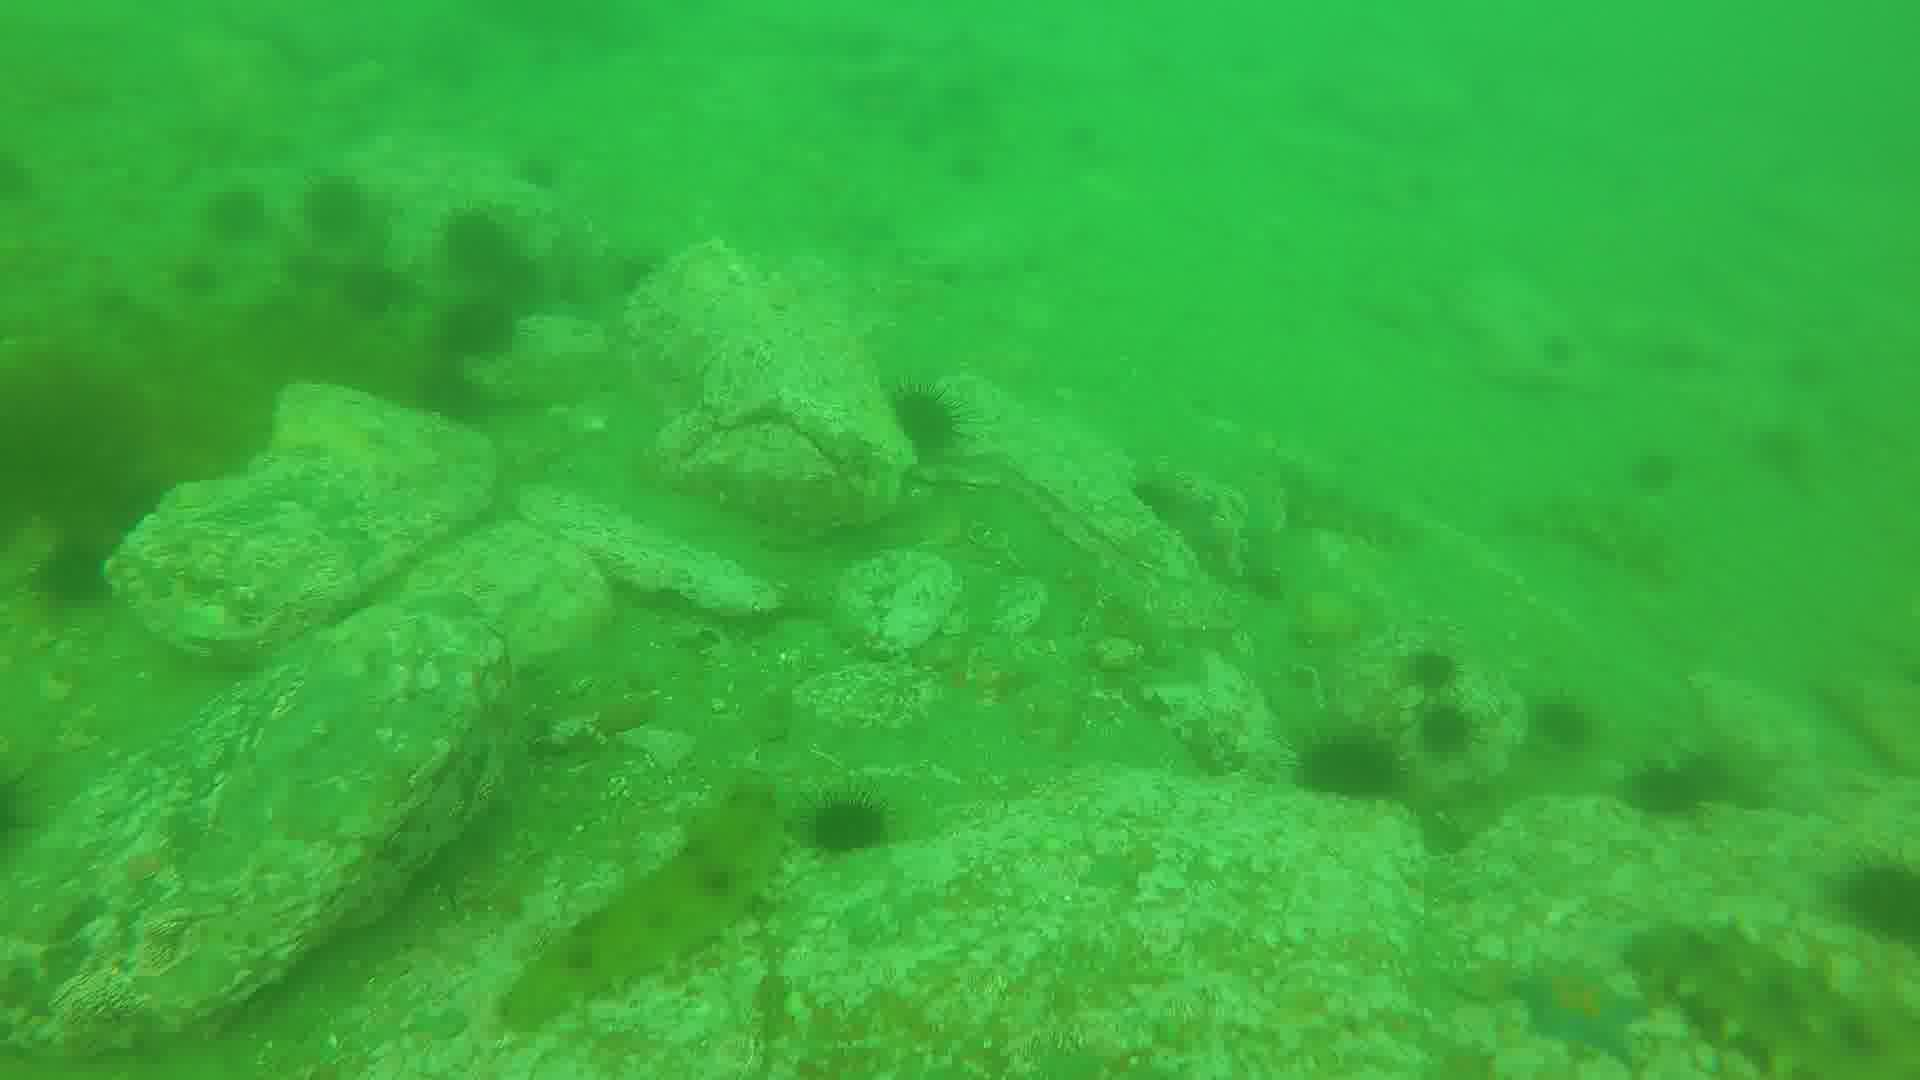echinus: (1292, 738, 1414, 808), (1832, 856, 1920, 951), (884, 386, 971, 459), (348, 253, 418, 335), (454, 214, 526, 291), (196, 185, 276, 251), (44, 542, 121, 607), (298, 178, 369, 248), (816, 794, 897, 855), (1634, 754, 1708, 814), (1528, 698, 1596, 756), (1410, 705, 1480, 761), (444, 293, 510, 351), (1, 769, 32, 869), (1411, 654, 1465, 702), (1633, 450, 1685, 495)
holothurian: (508, 773, 787, 1040), (1633, 928, 1920, 1080)
starfish: (1520, 959, 1654, 1065)
